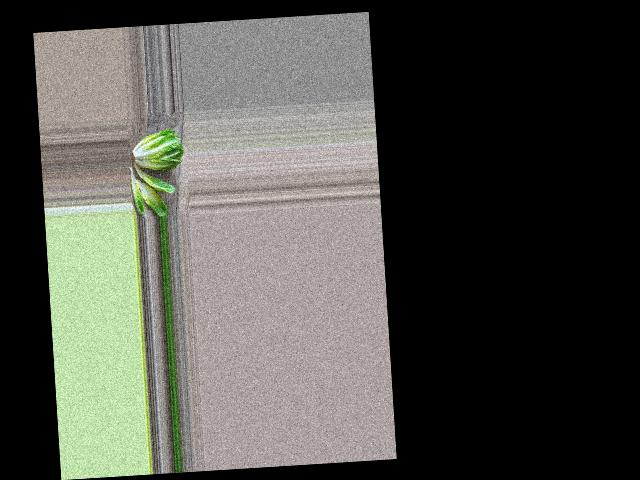lettuce: (132, 126, 184, 174)
